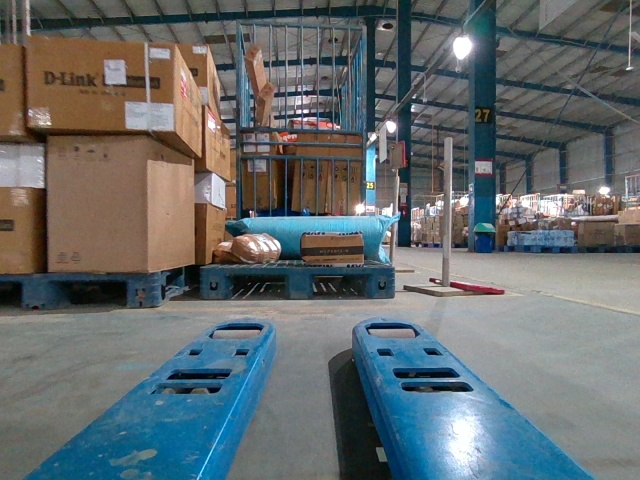block: (20, 276, 49, 310), (201, 268, 229, 300), (129, 273, 152, 310), (287, 267, 311, 300), (369, 265, 393, 298)
front: (200, 267, 394, 299)
hole pallet: (46, 281, 127, 310), (308, 275, 373, 297), (229, 275, 283, 300)
